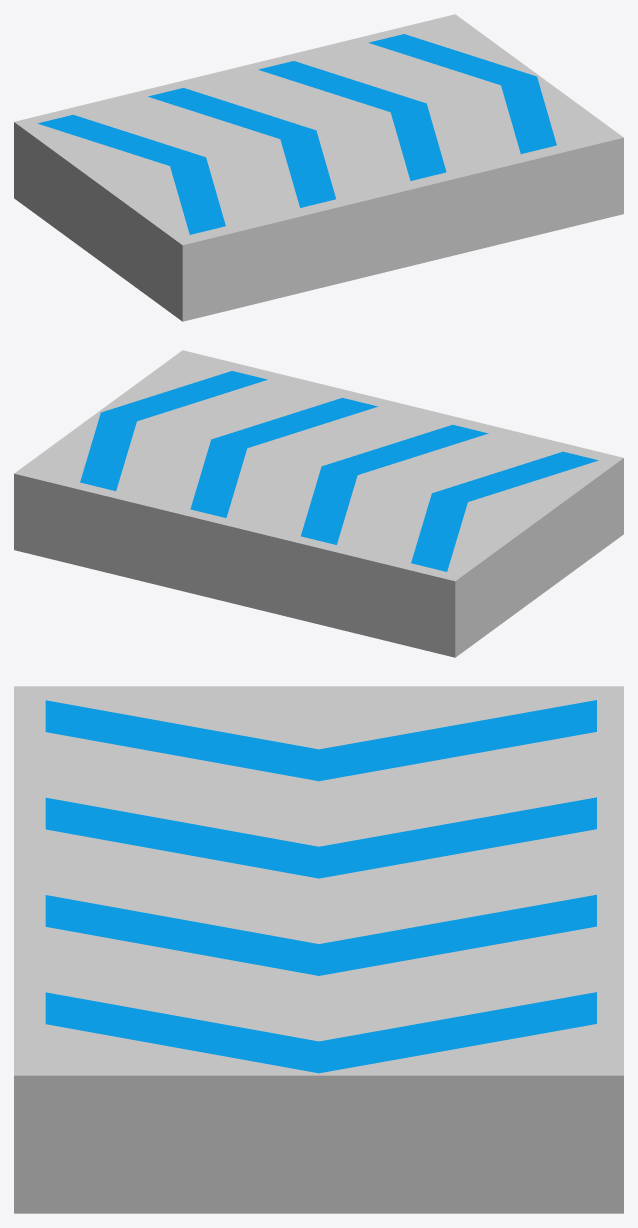
Rendered from platformnormal.fbx.
3 renders of one model, top to bottom at view 1: azimuth 30°, elevation 25°; view 2: azimuth 150°, elevation 25°; view 3: azimuth 270°, elevation 25°, orthographic. The views are drawn at different scales.
Visible parts, largest first — view 1: bridge p1; view 2: bridge p1; view 3: bridge p1.
Boxes of the visible parts, x1,y1,x2,y2 form: bridge p1: [14, 14, 623, 321]; bridge p1: [14, 350, 623, 657]; bridge p1: [14, 686, 623, 1213].
Size of the model in its own units: 604 by 100 by 400.
